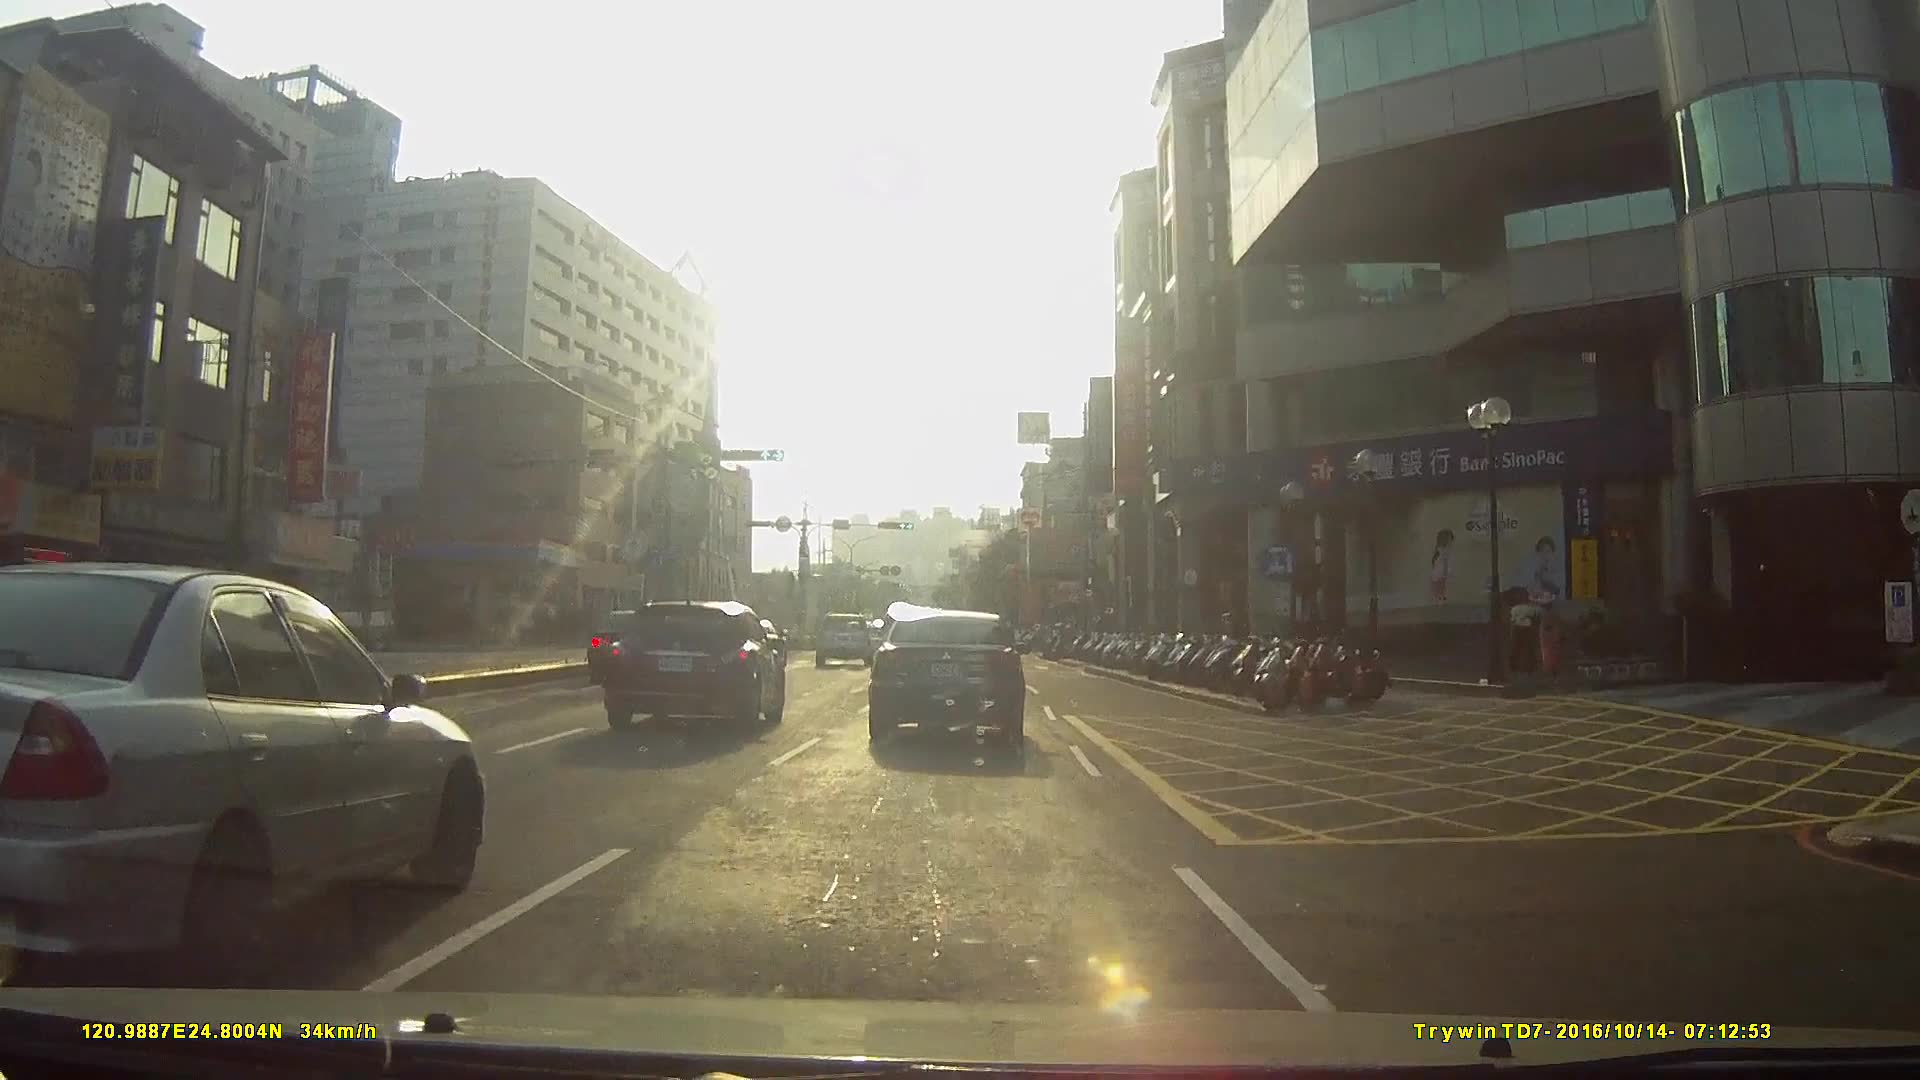pedestrian: (1534, 586, 1572, 681), (1506, 586, 1545, 676)
vehicle: (0, 554, 476, 995), (600, 591, 781, 730), (865, 609, 1024, 750), (587, 609, 686, 687), (808, 606, 870, 663)
